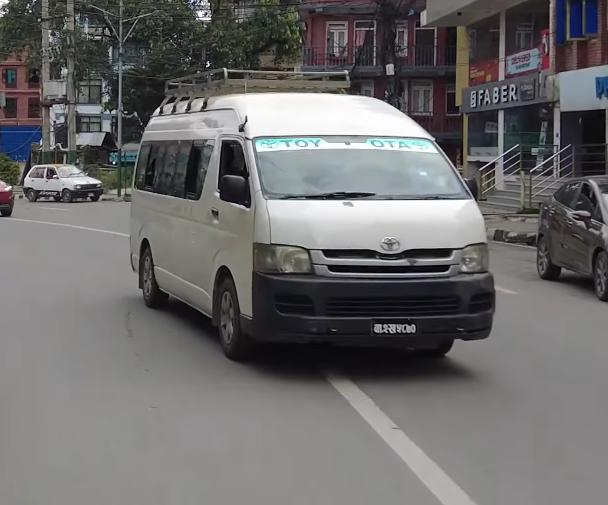car: (532, 173, 608, 302)
micro_bus: (128, 67, 504, 362)
taxi: (22, 161, 106, 209)
